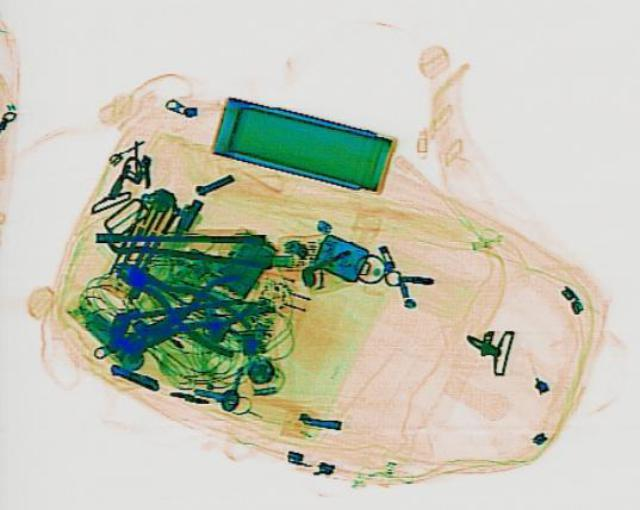Pliers: (96, 244, 264, 358), (109, 267, 263, 362)
